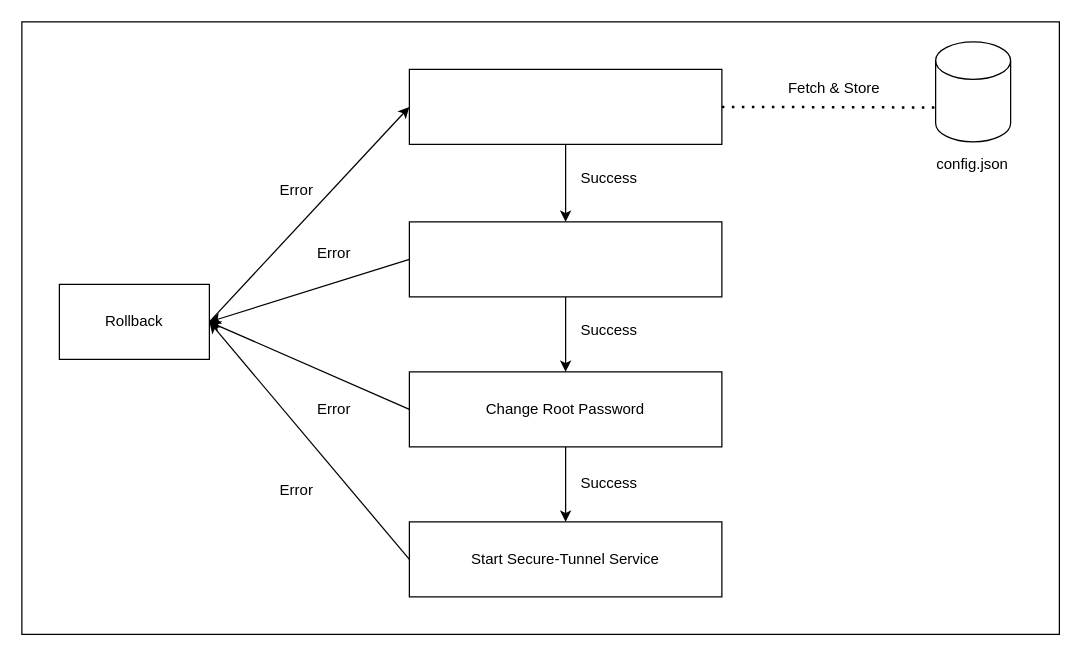
Some shapes in this 1081 by 656 pixel diagram are drawn without their labels. Here are the shapes that lost their labels. From the top down, the centre of each, then its label:
At (565,106): "Register Device".
At (565,259): "Create Files and Service".
